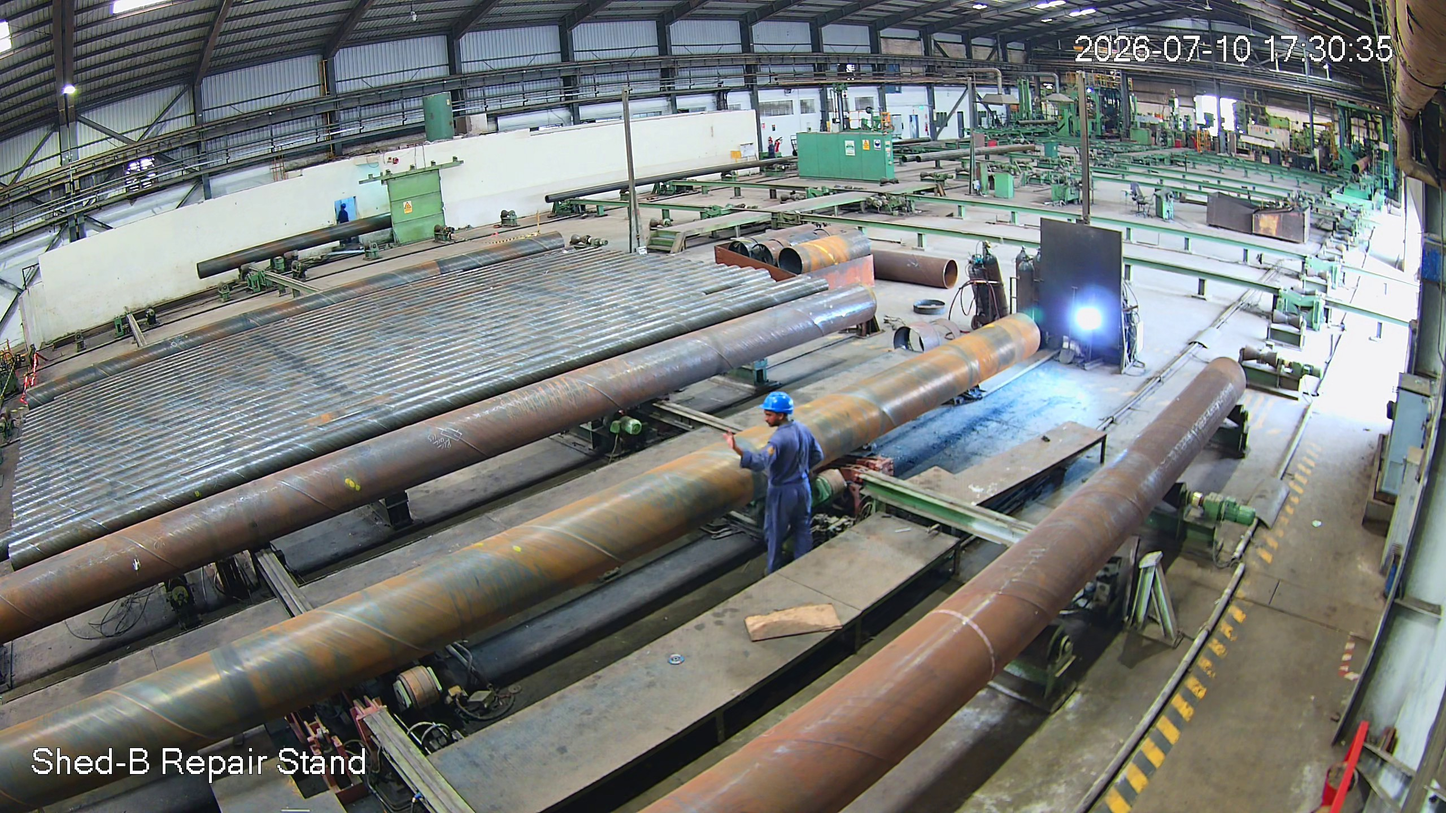Helmet: (762, 380, 803, 433)
Person: (754, 387, 825, 560)
